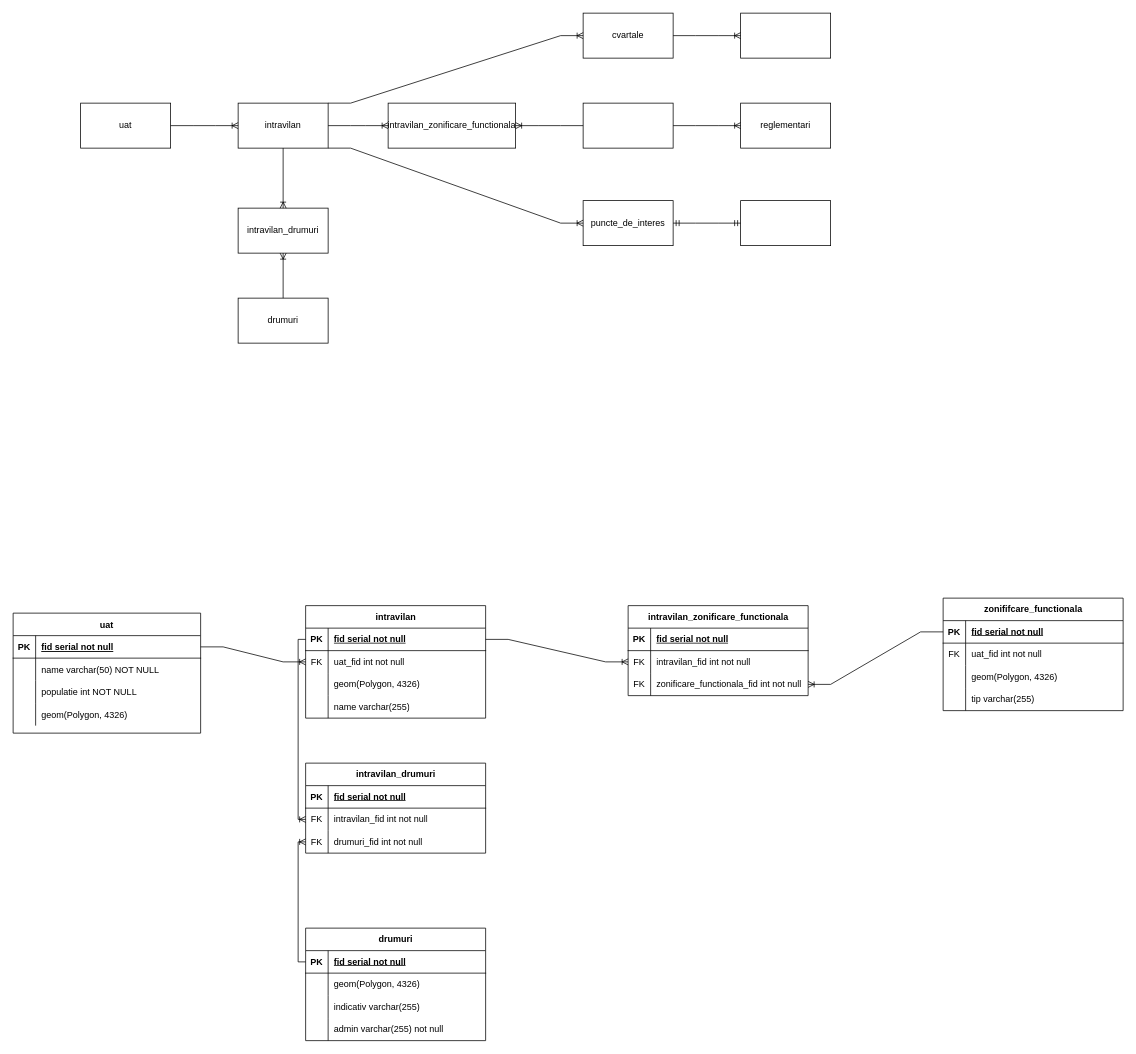
This 1136x1054 diagram has some shape labels left out. Here are the shapes that lost their labels. From the top down, the centre of each, then its label:
pixel 785 35: cladiri
pixel 627 125: zonificare_functionala
pixel 785 223: tip_poi
